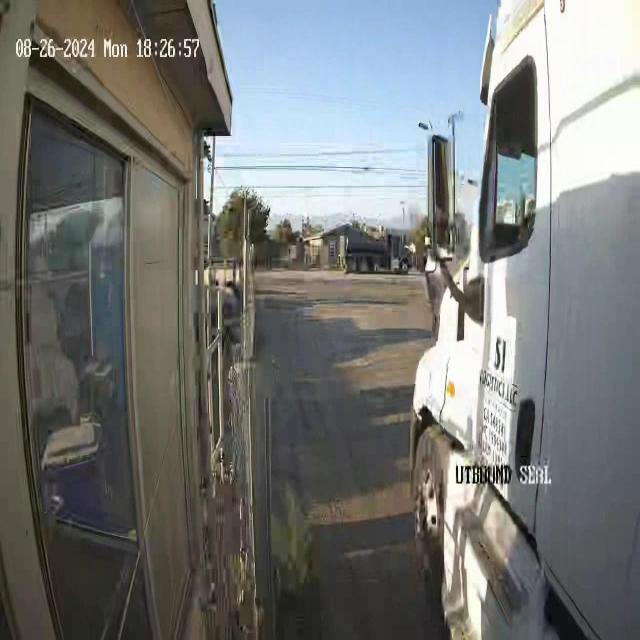TRUCK_OUT: (408, 1, 640, 638)
